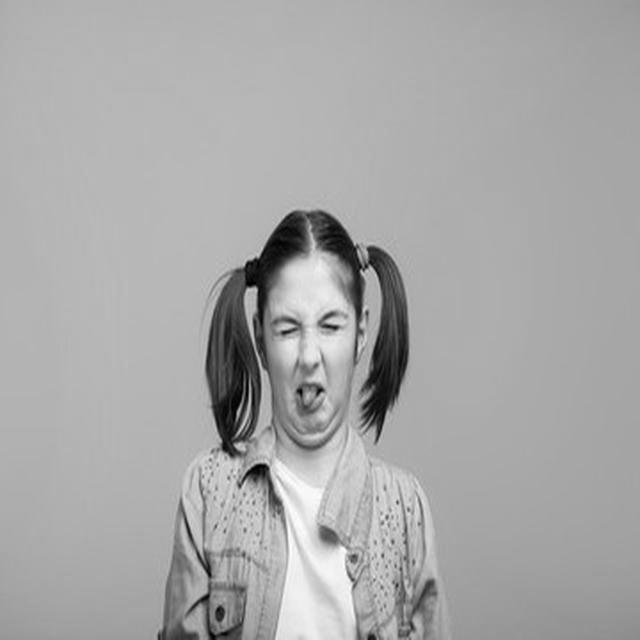Disgust: (260, 257, 367, 447)
